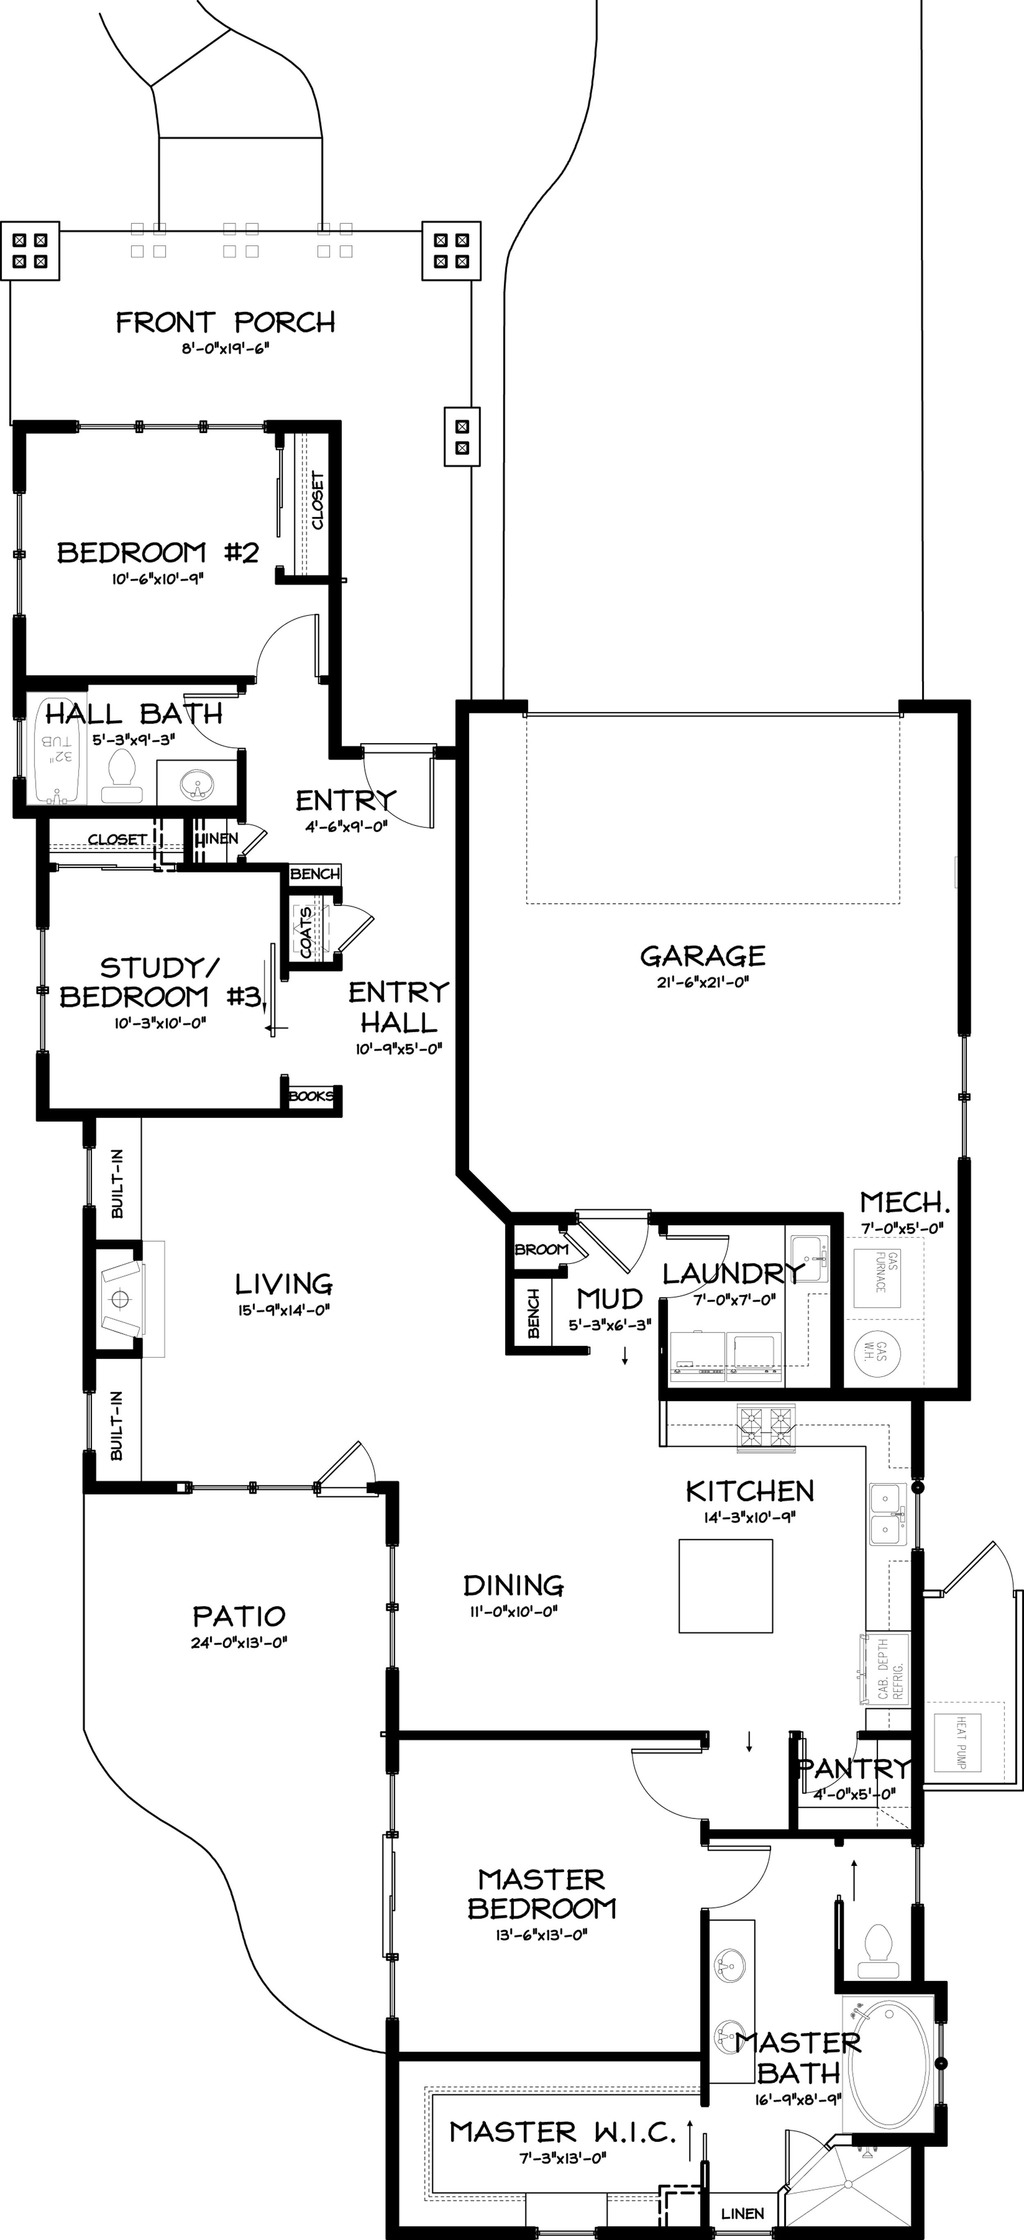door: (234, 599, 366, 684), (347, 730, 441, 826), (616, 1740, 713, 1833), (291, 1437, 396, 1523), (703, 1830, 793, 1919), (313, 886, 403, 961), (947, 1550, 1024, 1626), (573, 1209, 651, 1274), (176, 684, 247, 754)
large_sink: (823, 1909, 934, 1979), (86, 733, 161, 823)
small_sink: (698, 1926, 775, 2111), (159, 740, 227, 816)
tub: (830, 1994, 941, 2130), (6, 674, 89, 811)
twin_sink: (847, 1469, 941, 1557)
